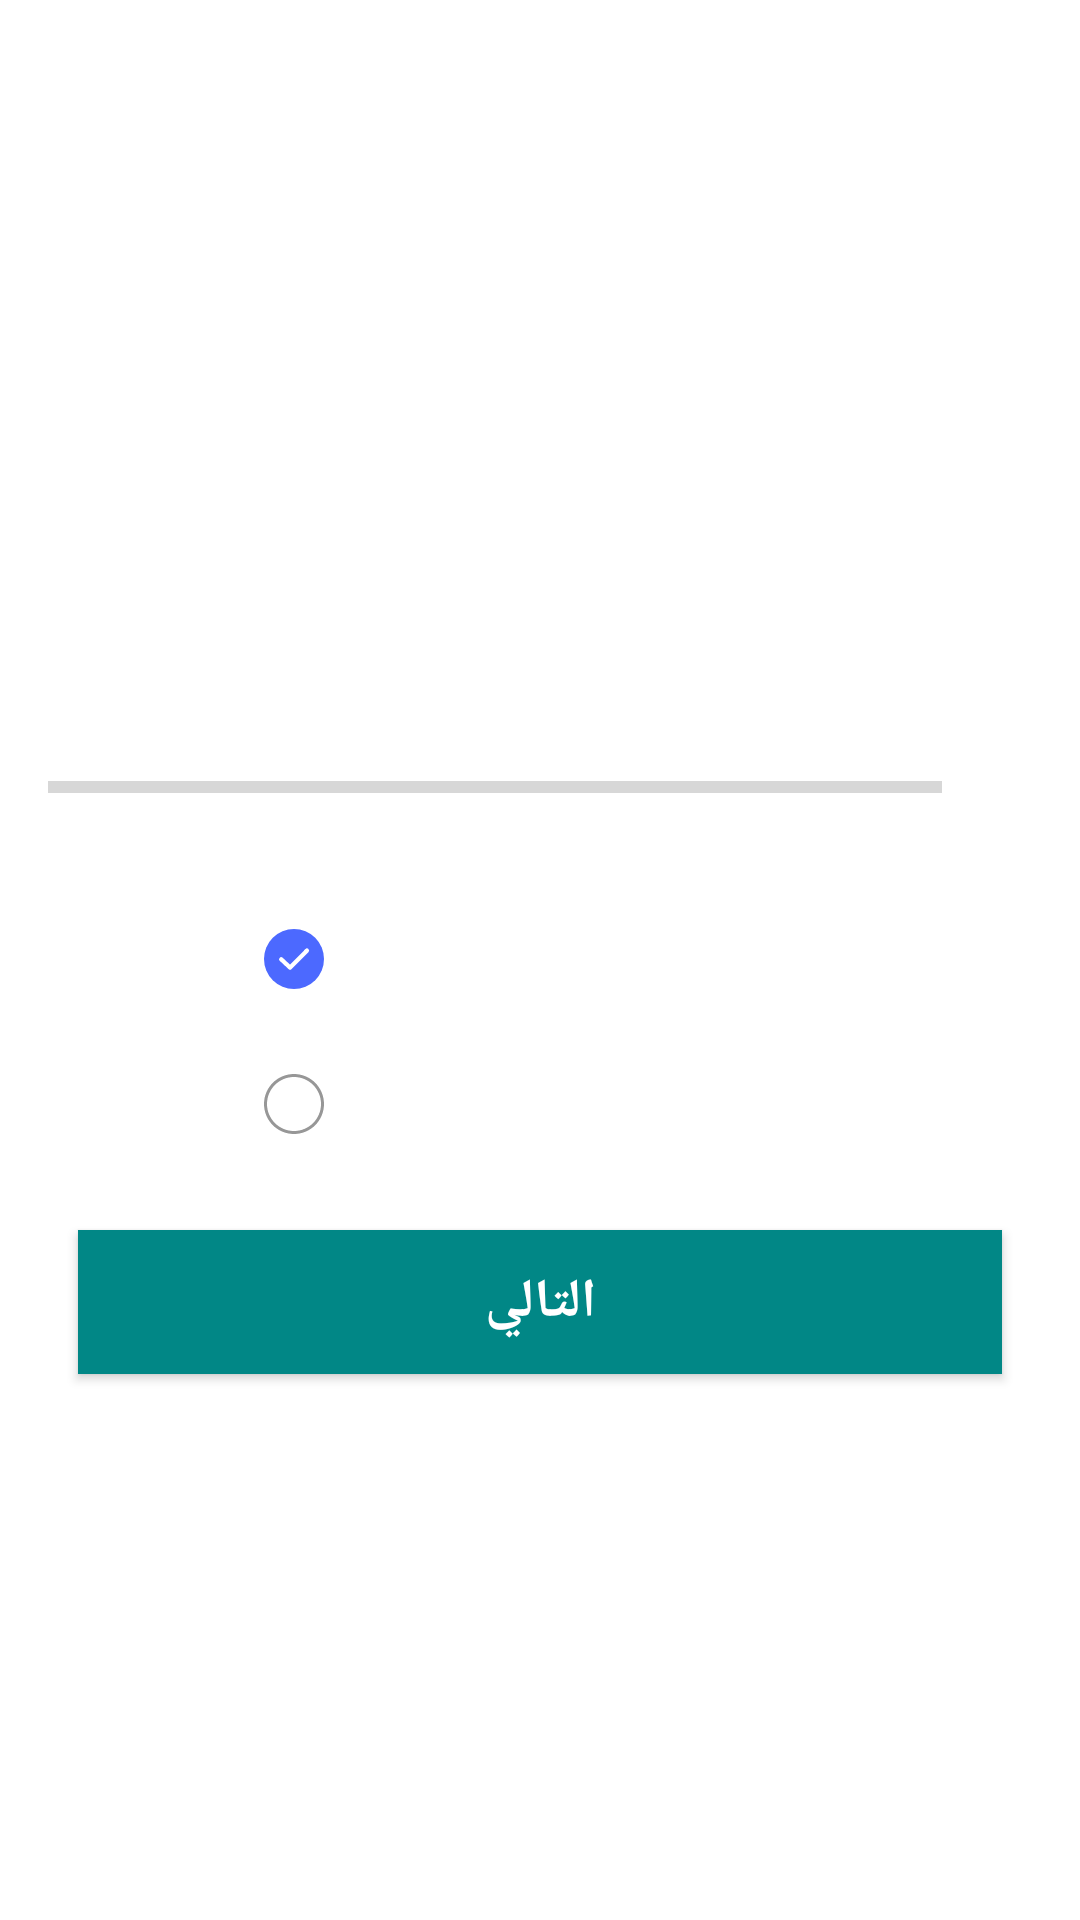

Screen size 1080px×1920px. Icon name, then its box in pixels as box(x1, y1, x2, y2):
check off: box(264, 1074, 324, 1134)
check on: box(264, 929, 324, 989)
